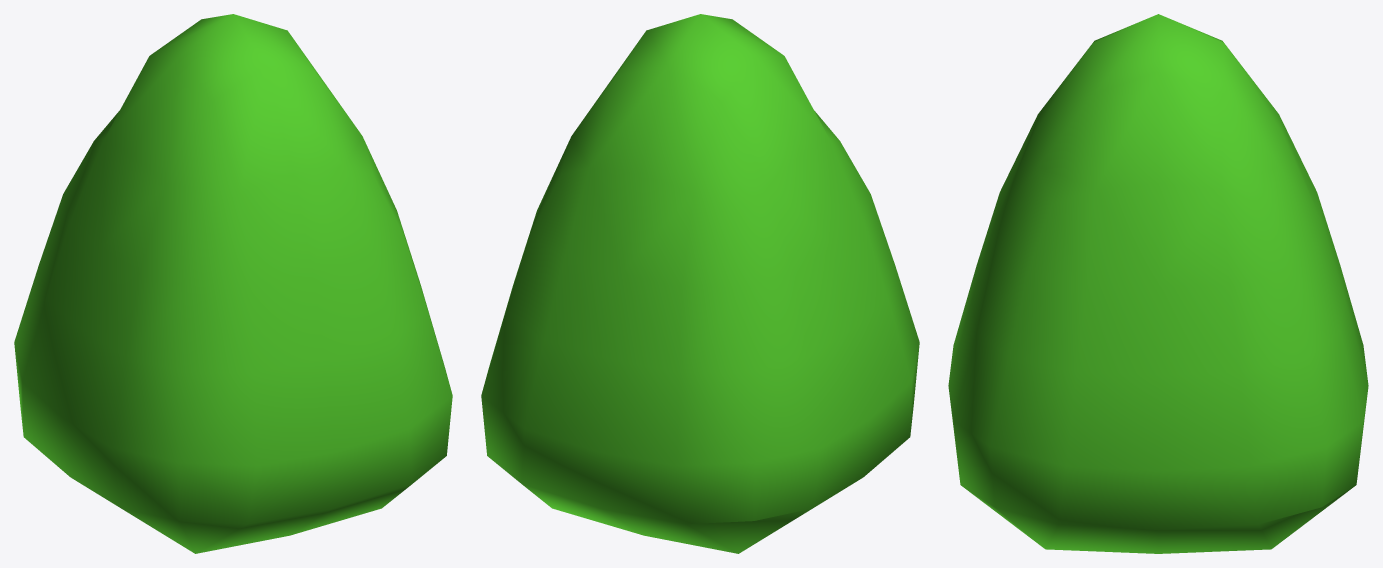
File: bush_s02.FBX
3 renders of one model, left to right at view 1: azimuth 30°, elevation 25°; view 2: azimuth 150°, elevation 25°; view 3: azimuth 270°, elevation 25°, orthographic. The views are drawn at different scales.
Parts seen in each view (by area): view 1: bush_s02; view 2: bush_s02; view 3: bush_s02.
Boxes of the visible parts, <box> form: bush_s02: <box>14,14,452,553</box>; bush_s02: <box>481,14,919,553</box>; bush_s02: <box>948,14,1368,553</box>.
Bounding box in the file's own units: 84.57 × 88.11 × 115.
1 material, 1 textured.
